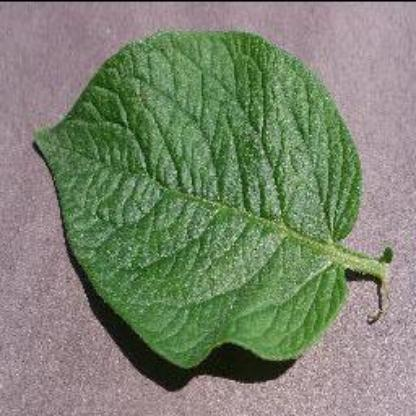Healthy-plant: (32, 23, 410, 382)
